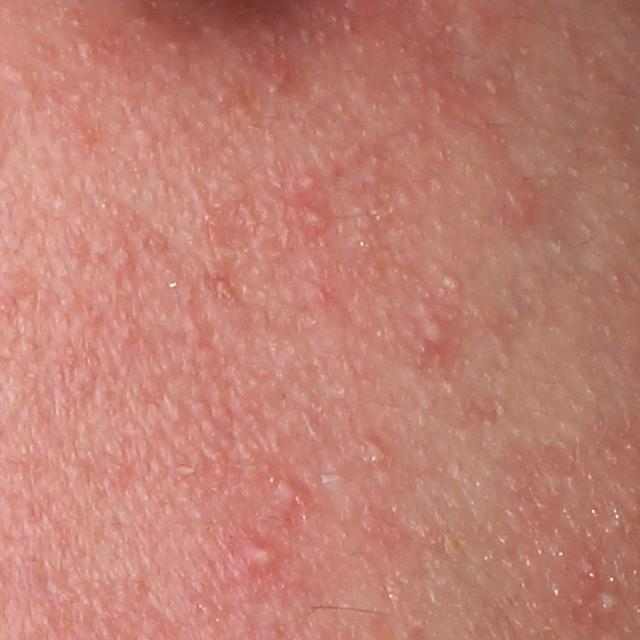comedo: (128, 119, 159, 146), (441, 273, 463, 292)
papule: (420, 319, 450, 355)
pustule: (234, 534, 295, 579)
